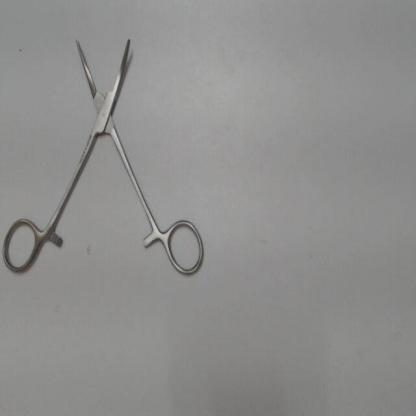Crile Artery Forceps: (1, 34, 212, 287)
